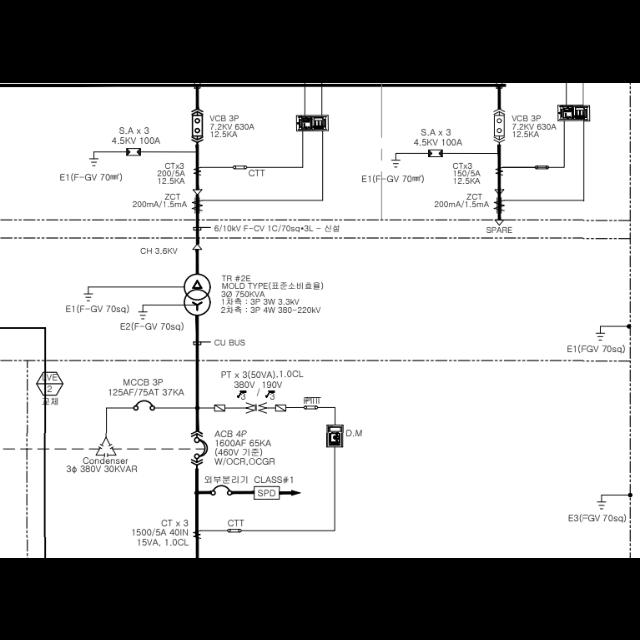ACB: (194, 436, 208, 458)
CB: (192, 114, 204, 136), (494, 115, 504, 135)
CH: (193, 188, 203, 194), (192, 244, 202, 248), (495, 220, 503, 224)
CT: (494, 165, 504, 175), (194, 166, 202, 174), (193, 530, 201, 538)
GND: (137, 310, 149, 320), (88, 157, 100, 166), (594, 332, 606, 341), (391, 158, 401, 168), (83, 292, 93, 302)
LA: (126, 147, 142, 155), (429, 148, 443, 156)
MCCB: (133, 398, 155, 410), (211, 484, 231, 496)
PF2: (276, 403, 286, 411), (213, 404, 224, 411)
PT: (246, 401, 266, 413)
SC: (96, 438, 115, 457)
ZCT: (191, 196, 203, 214), (494, 196, 504, 214)
